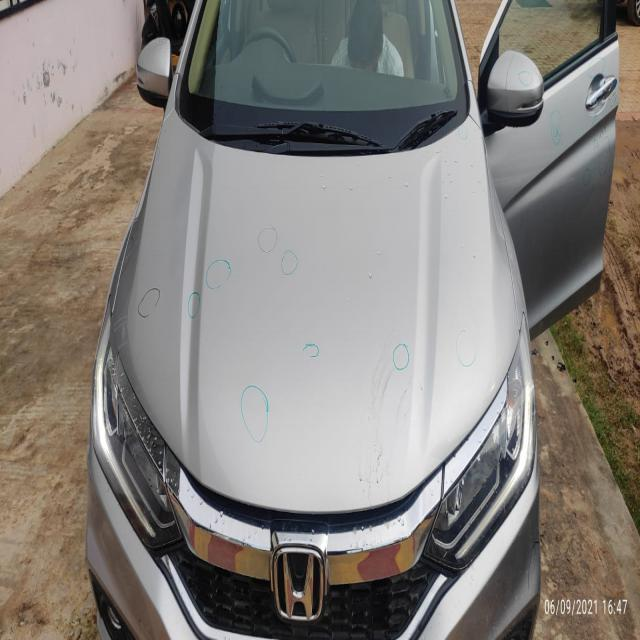bonnet-dent: (292, 135, 463, 562)
